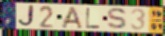2: (38, 5, 56, 29)
3: (130, 8, 148, 32)
A: (61, 6, 85, 30)
J: (16, 4, 36, 28)
L: (85, 7, 102, 29)
S: (106, 7, 130, 31)
